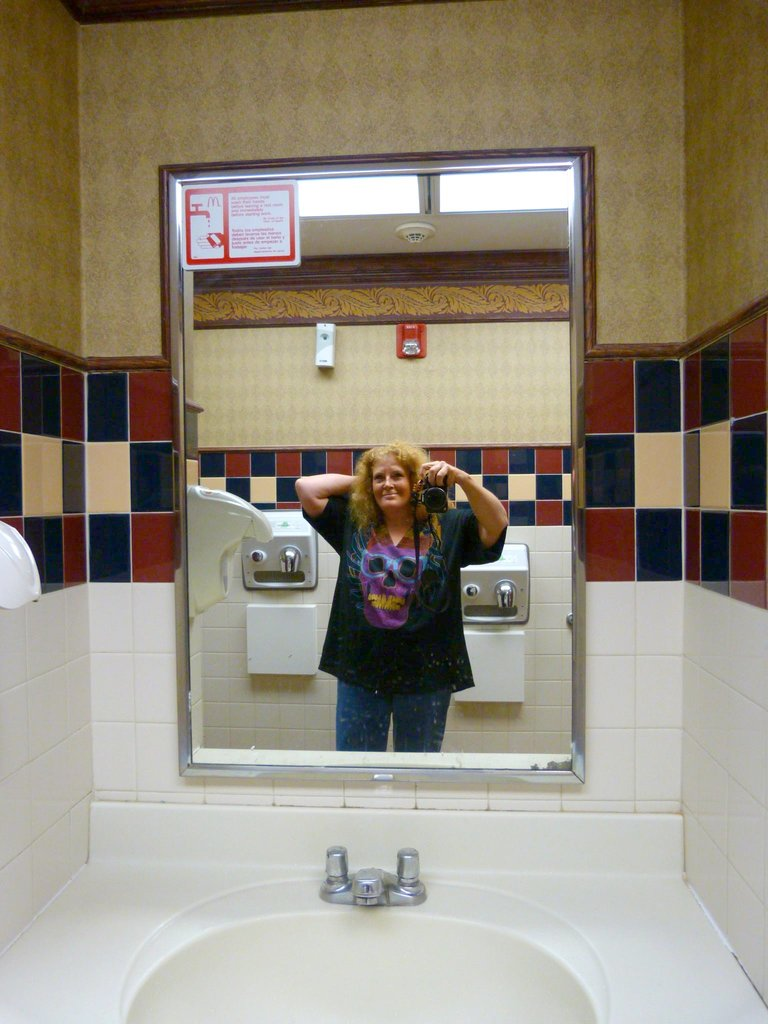tap: (347, 864, 392, 901)
